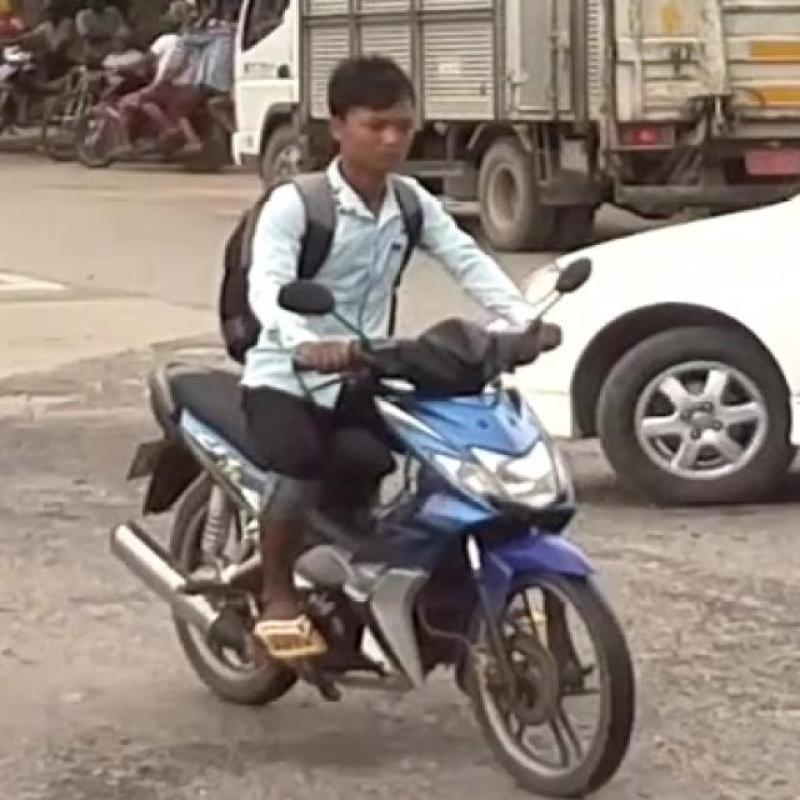nohelmet: (288, 32, 428, 206)
